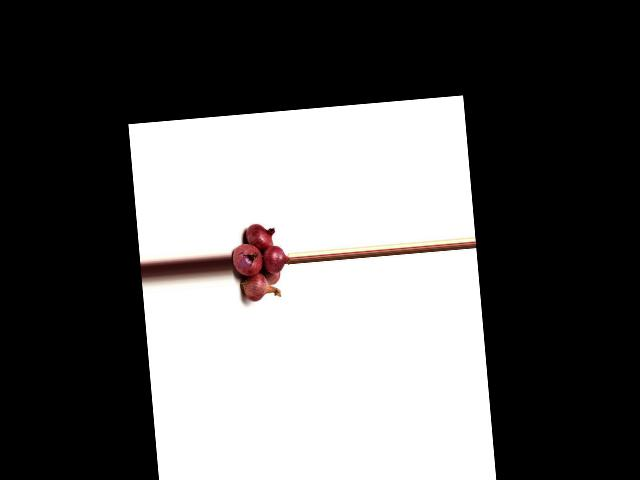onion: (230, 242, 264, 284)
